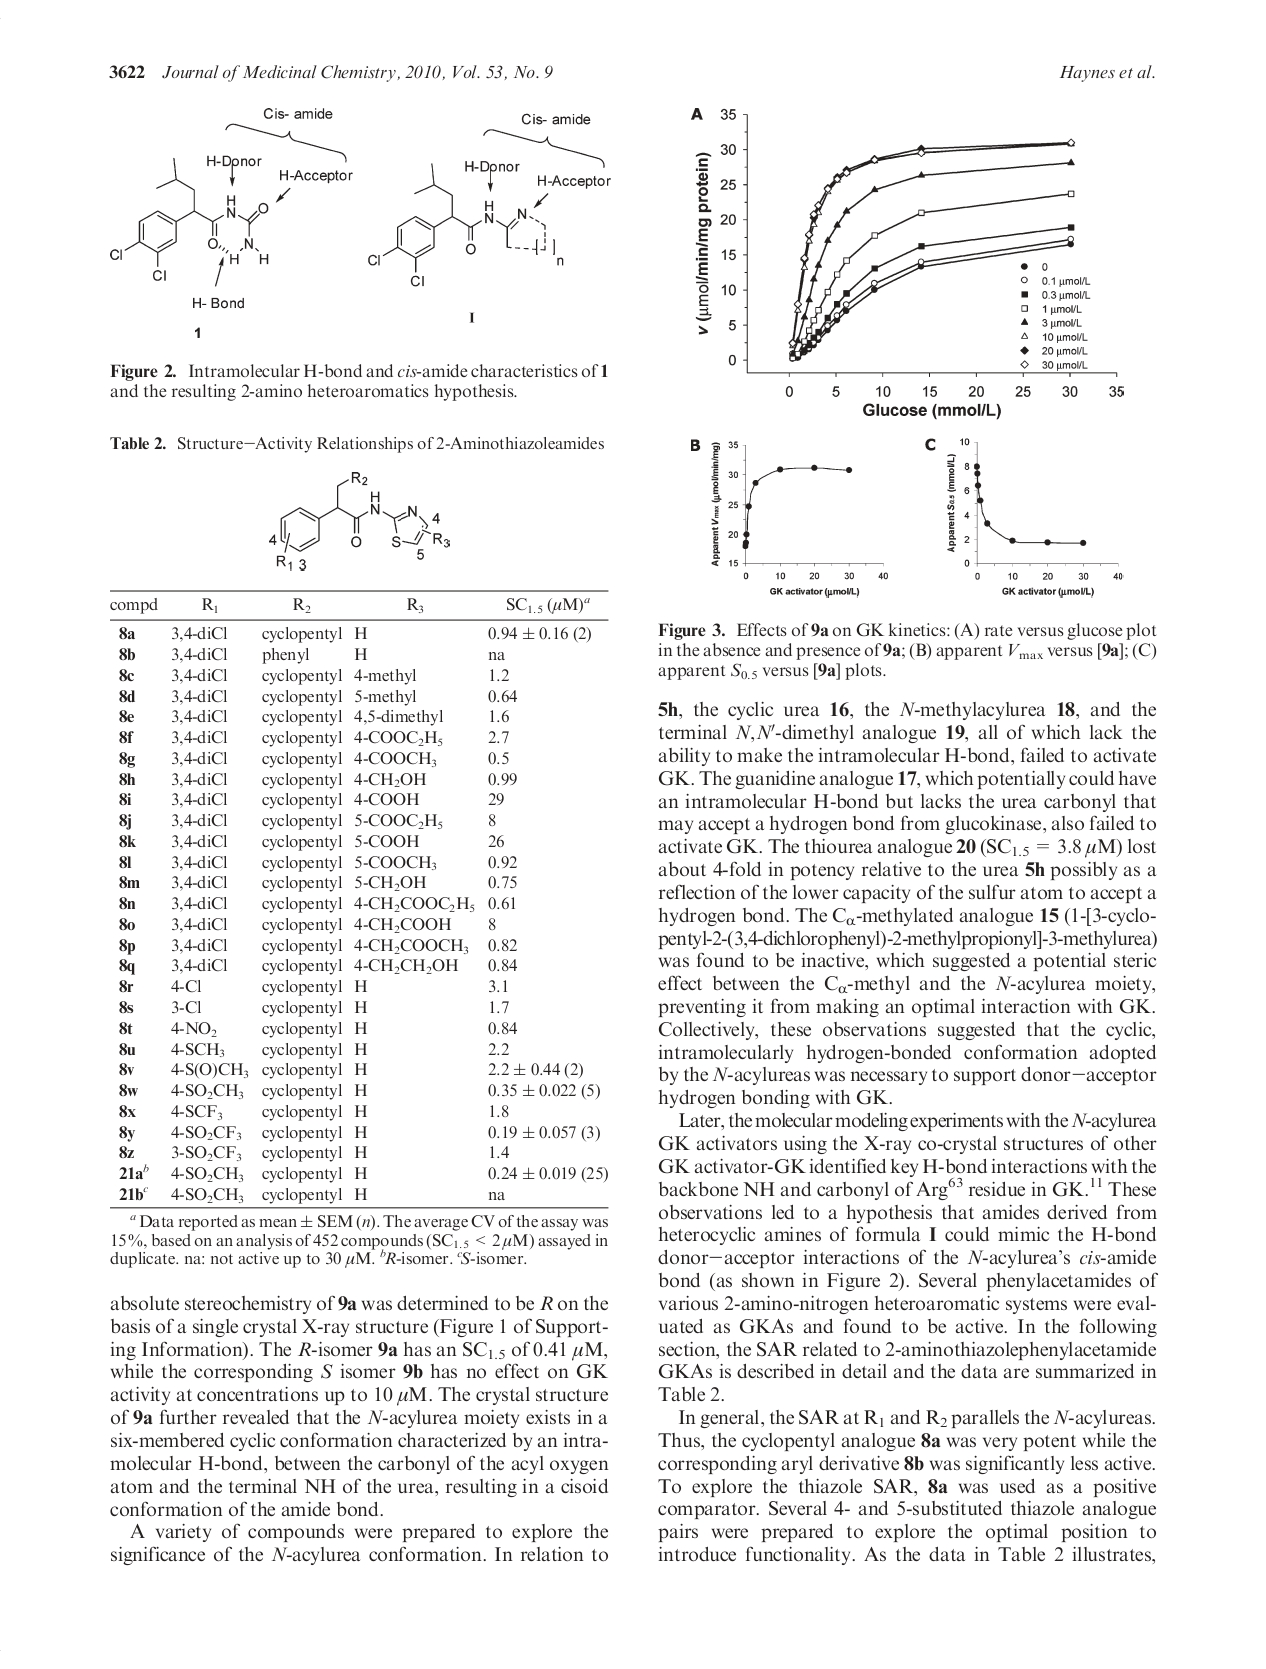exist_molecular: (364, 160, 548, 291), (106, 156, 278, 289), (262, 465, 455, 575)
